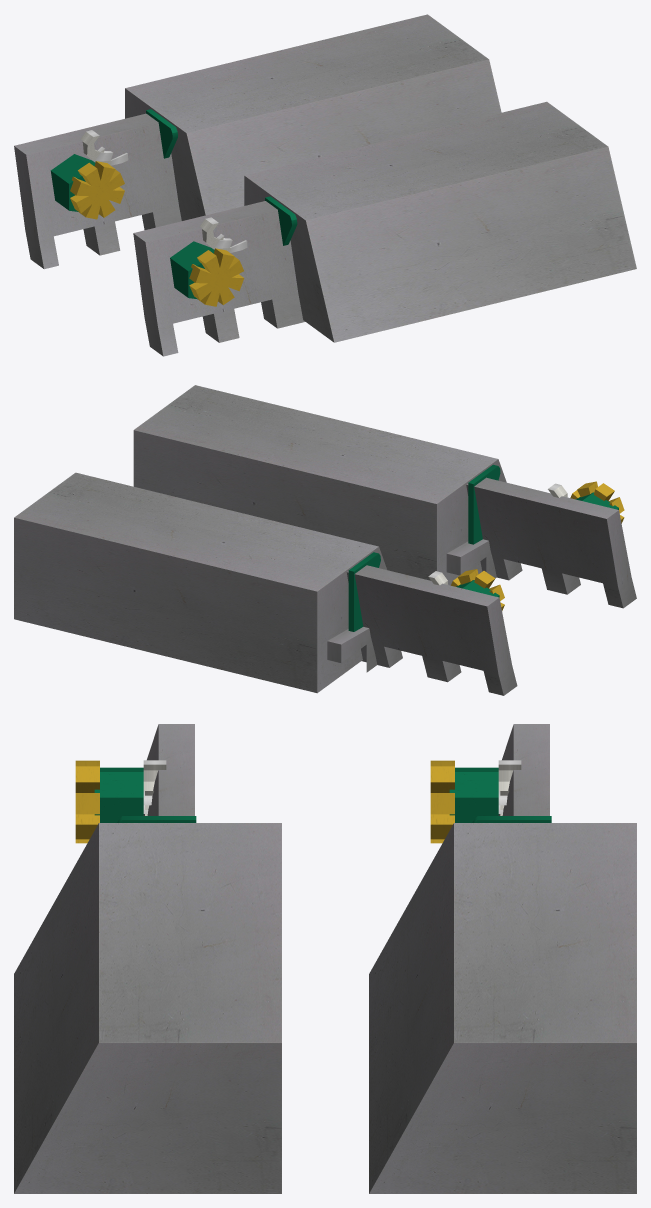
3 views of the same model, one above another, from view 1: azimuth 30°, elevation 25°; view 2: azimuth 150°, elevation 25°; view 3: azimuth 270°, elevation 25° (orthographic). The views are drawn at different scales.
Parts seen in each view (by area): view 1: caiyinji001; view 2: caiyinji001; view 3: caiyinji001.
Boxes of the visible parts, <box> form: caiyinji001: <box>14,14,636,356</box>; caiyinji001: <box>14,385,636,695</box>; caiyinji001: <box>14,724,636,1193</box>.
Size of the model in its own units: 16.47 by 3.82 by 13.47.
4 materials, 4 textured.
